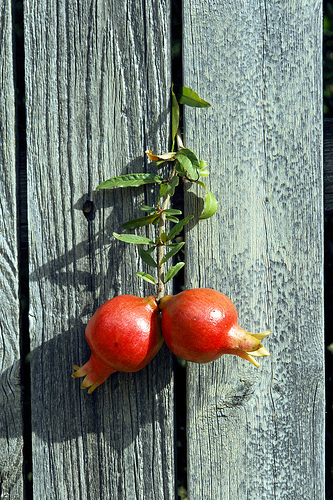pomogranate: (157, 286, 275, 371), (68, 295, 157, 396)
